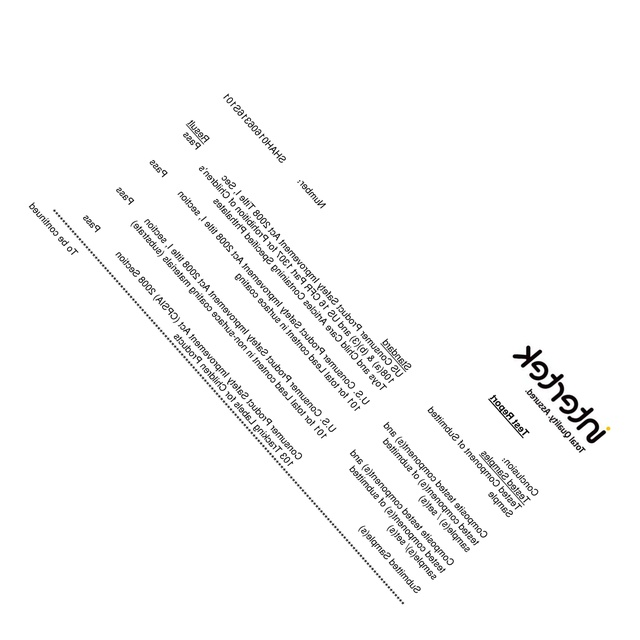intertek: (511, 343, 610, 448)
